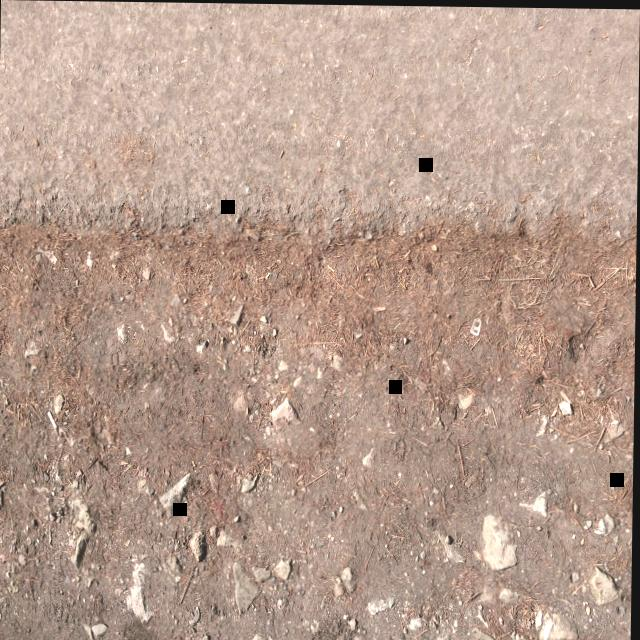Cigarette: (48, 411, 58, 431)
Pop tab: (470, 316, 482, 335)
